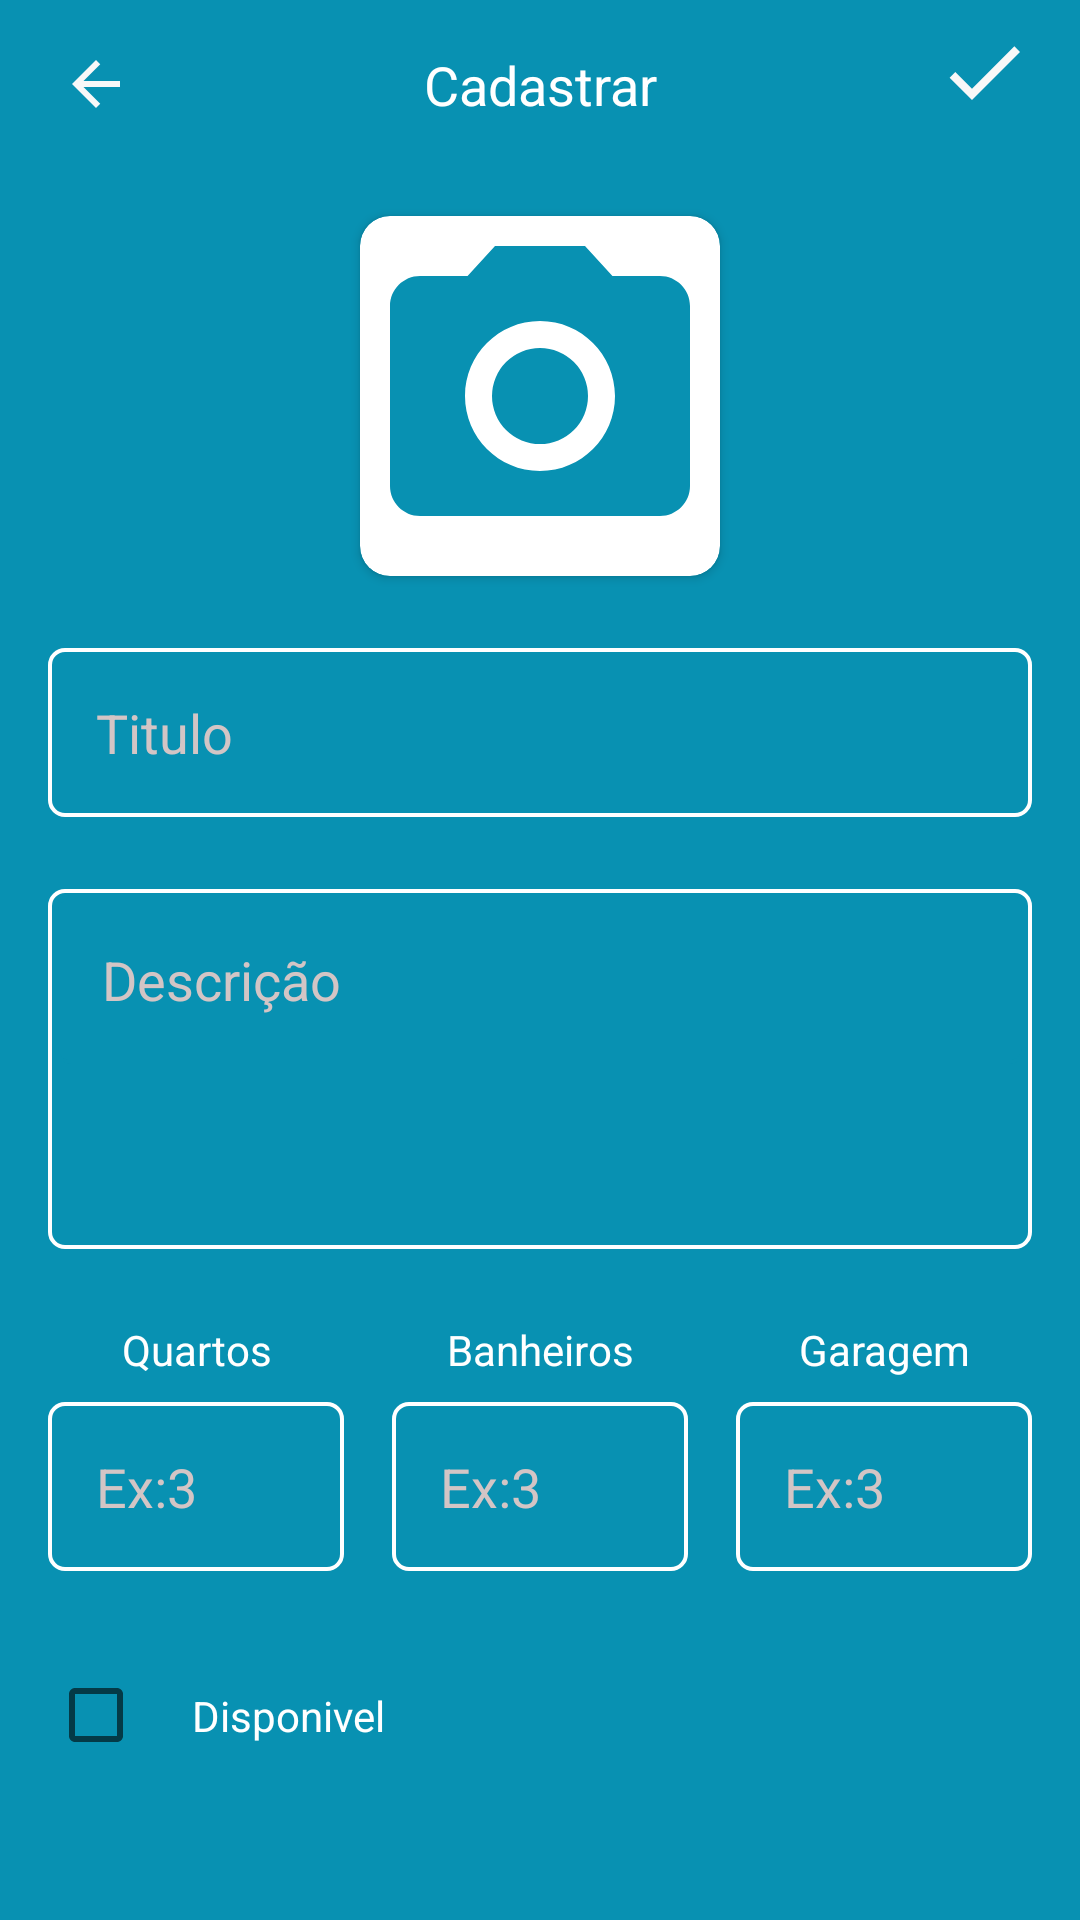

Icon bounding boxes for this 1080px×1920px phone screenshot, format (x1, y1, x2, y2):
check: (949, 46, 1020, 100)
goback: (72, 60, 120, 108)
photo: (360, 216, 720, 576)
